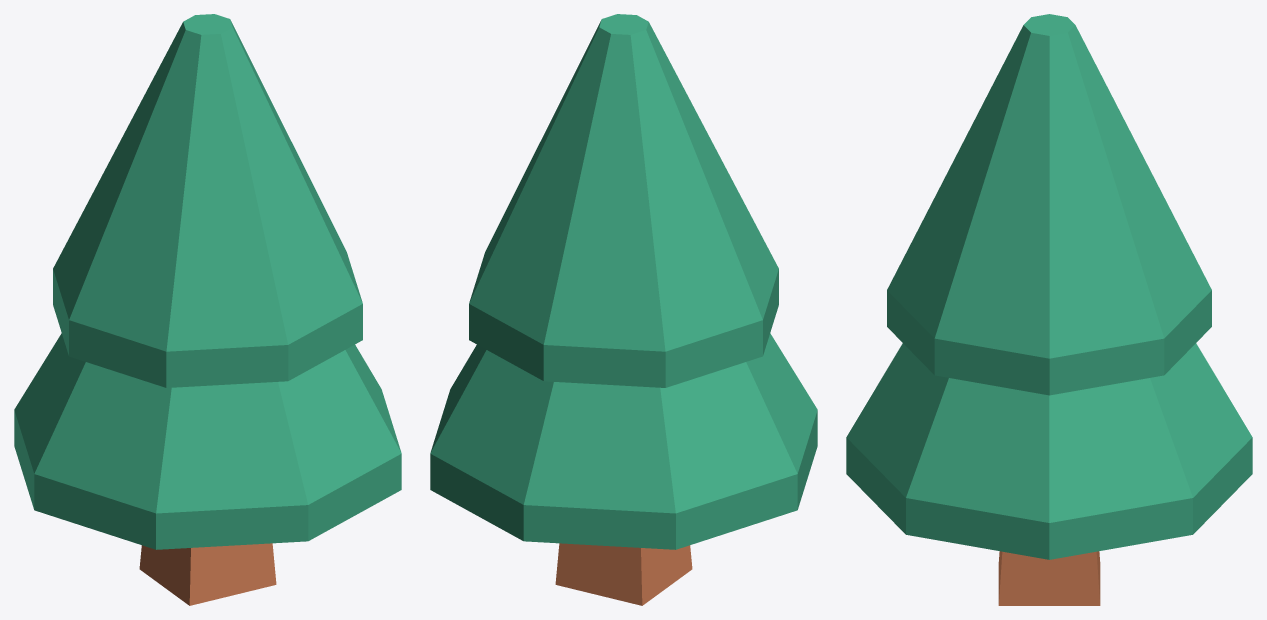
Rendered from detail_tree.dae.
The picture shows the model from 3 angles, left to right: view 1: azimuth 30°, elevation 25°; view 2: azimuth 150°, elevation 25°; view 3: azimuth 270°, elevation 25°; orthographic projection.
Parts seen in each view (by area): view 1: detail_tree; view 2: detail_tree; view 3: detail_tree.
Boxes of the visible parts, x1,y1,x2,y2 form: detail_tree: (14,14,401,605); detail_tree: (430,14,817,605); detail_tree: (846,14,1252,605).
Size of the model in its own units: 0.35 by 0.532 by 0.35.
